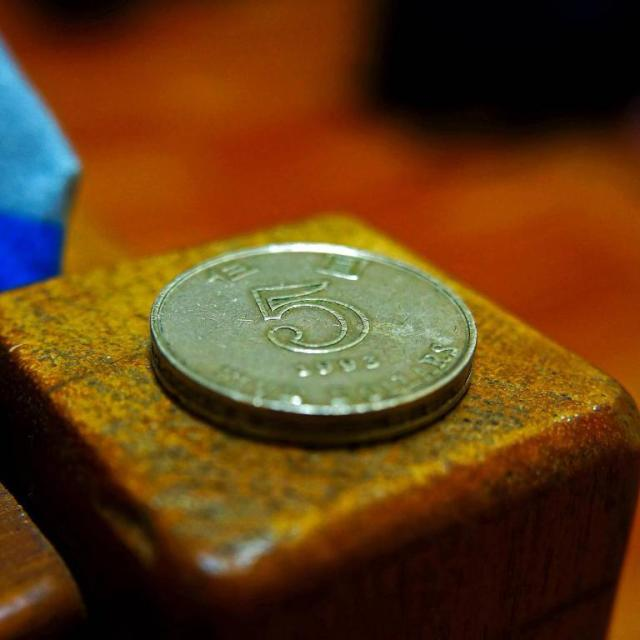Coin: (153, 239, 482, 449)
